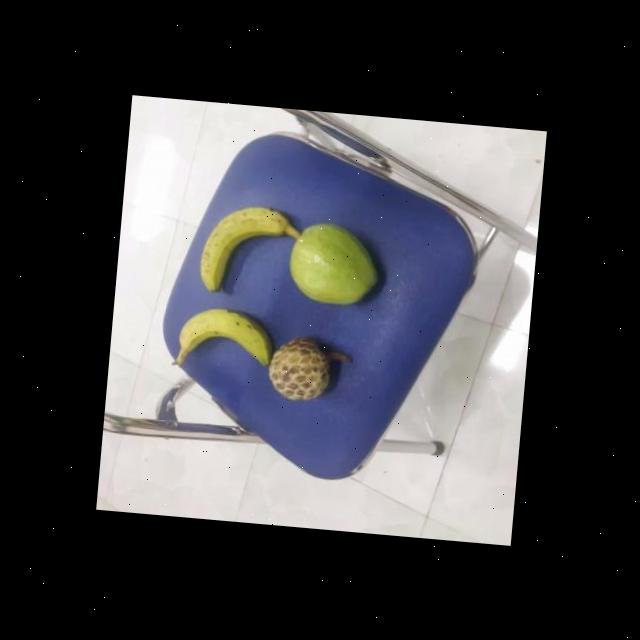Sakya fruit: (264, 330, 338, 404)
banana: (196, 198, 290, 295), (174, 300, 272, 372)
guava: (288, 216, 380, 309)
